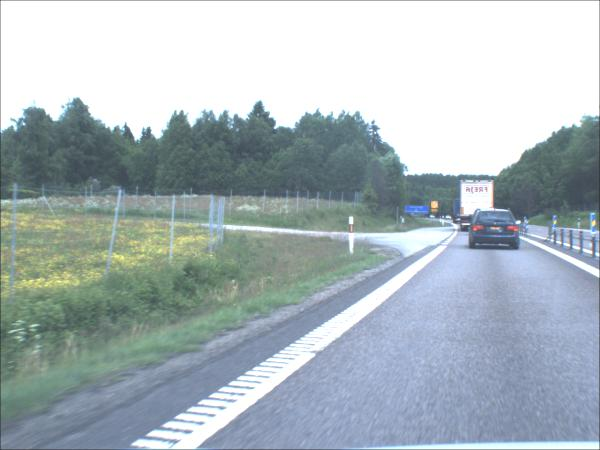70_SIGN: (431, 202, 439, 210)
